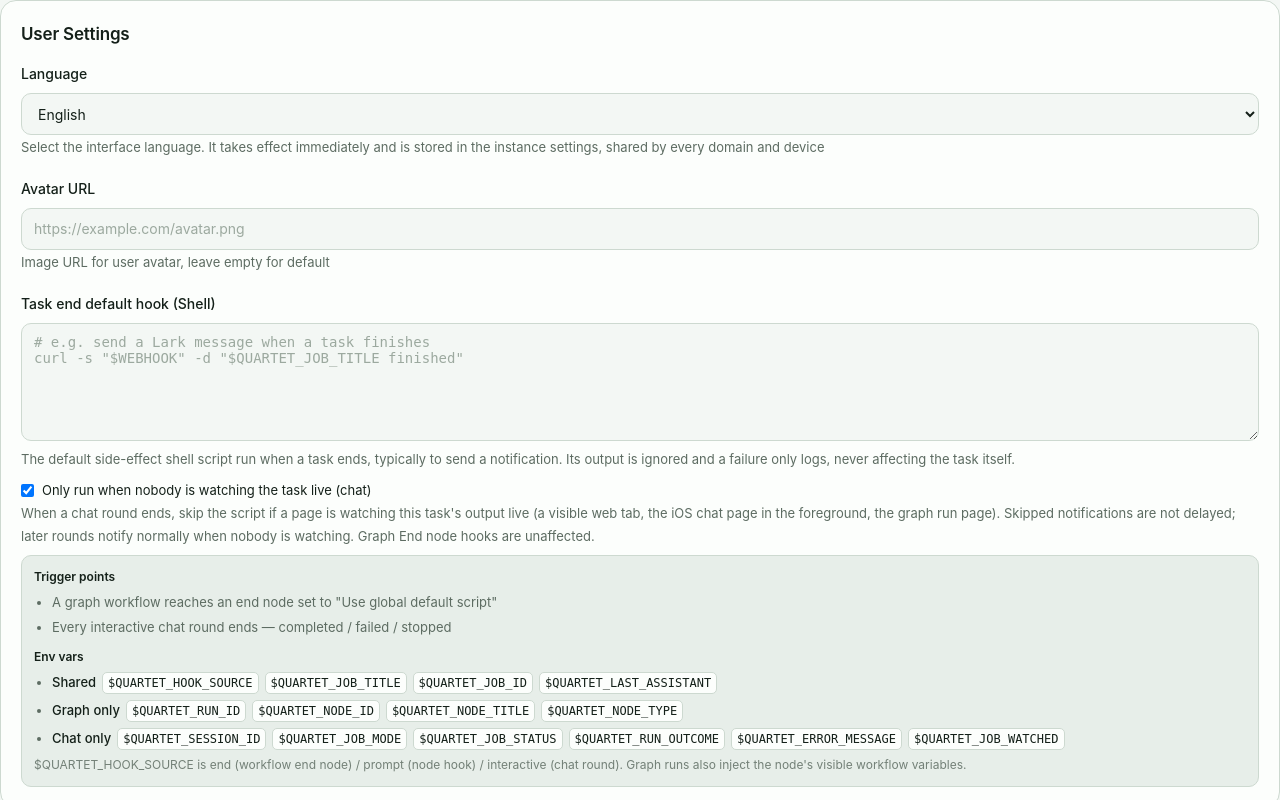
Test: GeneralSettings i18n behavior › updates visible settings copy after switching language
This screenshot has width=1280, height=800.
Check: the heading "User Settings" is shown, box [21,24,130,44]
Check: the text "Select the interface language. It takes effect immediately and is stored in the instance settings, shared by every domai" is shown, box [21,139,824,155]
Step 1. Select "中文" in the dropdown → (640, 114), box [21,93,1259,135]
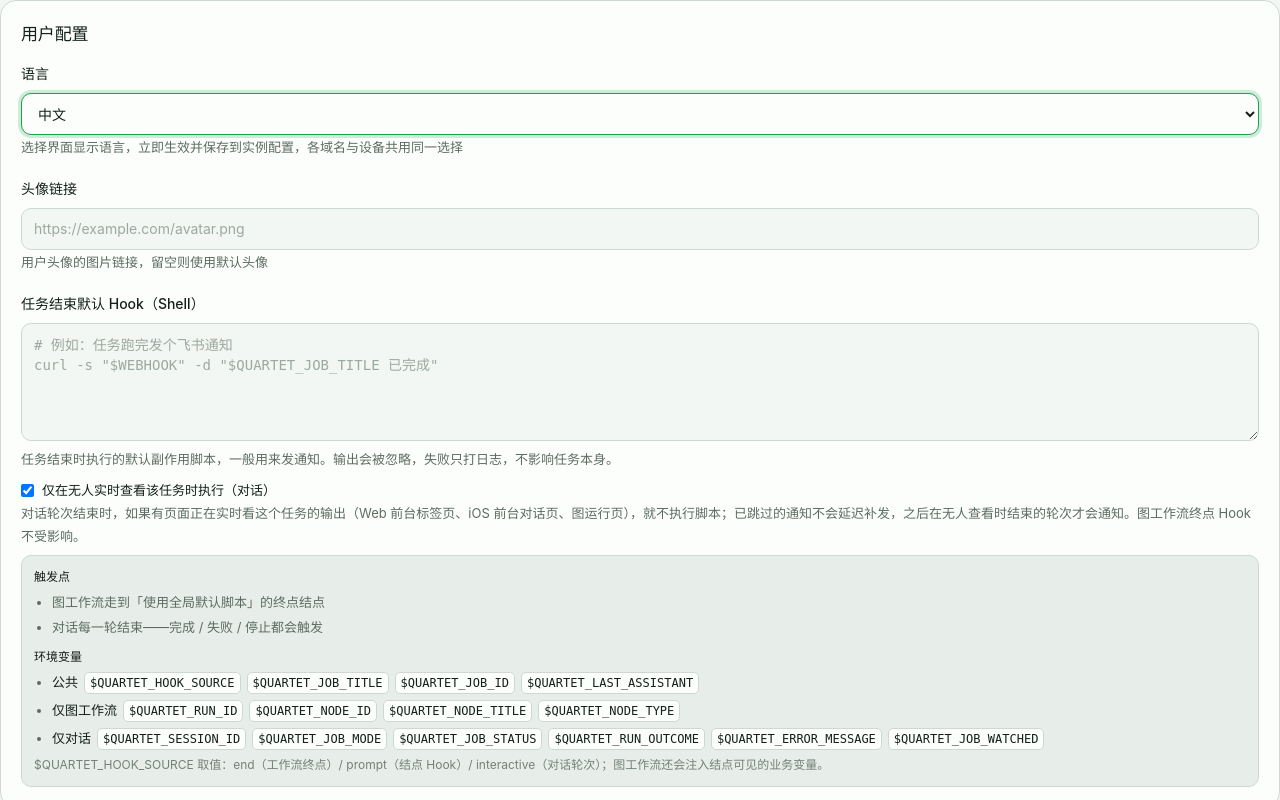
Check: the heading "用户配置" is shown, box [21,24,88,44]
Check: the text "选择界面显示语言，立即生效并保存到实例配置，各域名与设备共用同一选择" is shown, box [21,139,463,155]
Check: the heading "User Settings" is gone
